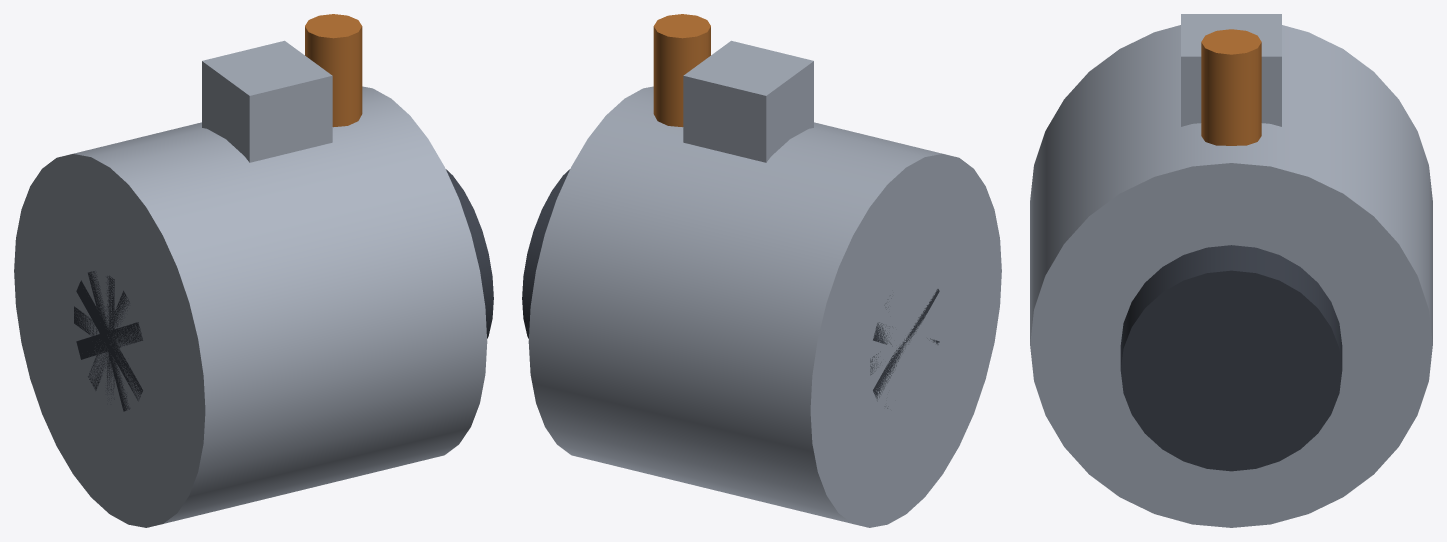
3 views of the same model, side by side, from view 1: azimuth 30°, elevation 25°; view 2: azimuth 150°, elevation 25°; view 3: azimuth 270°, elevation 25° (orthographic). The views are drawn at different scales.
Visible parts, largest first — view 1: Alternador 12V 70A; view 2: Alternador 12V 70A; view 3: Alternador 12V 70A.
Boxes of the visible parts, bbox=[...] form: Alternador 12V 70A: bbox=[14, 14, 493, 527]; Alternador 12V 70A: bbox=[522, 14, 1001, 527]; Alternador 12V 70A: bbox=[1030, 14, 1432, 527].
Size of the model in its own units: 0.8 by 1 by 0.8.
